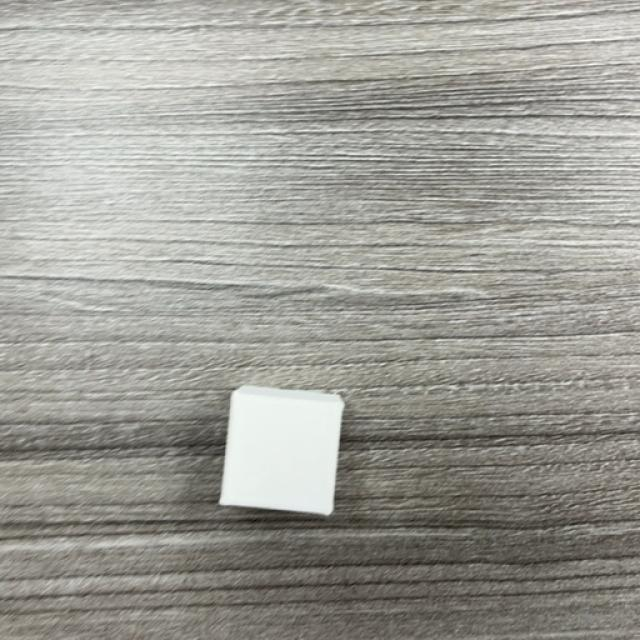Blanco: (220, 386, 345, 519)
